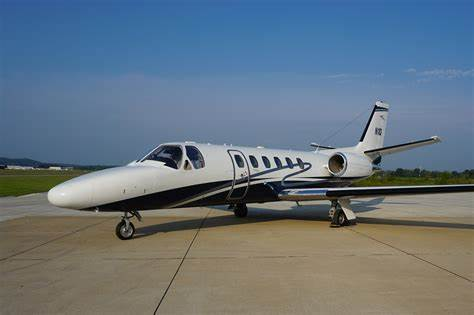Aeronef_commercial: (43, 97, 474, 232)
